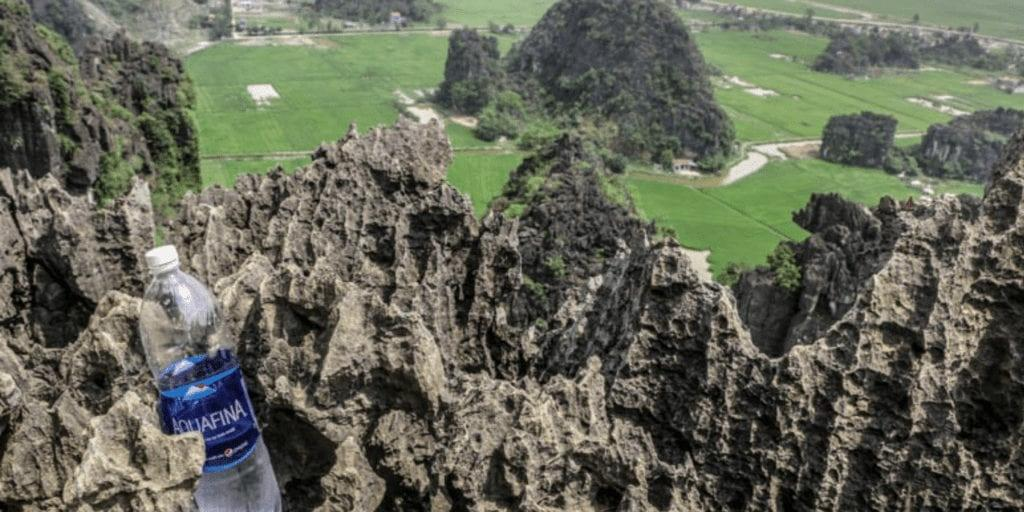Plastic: (138, 243, 282, 512)
